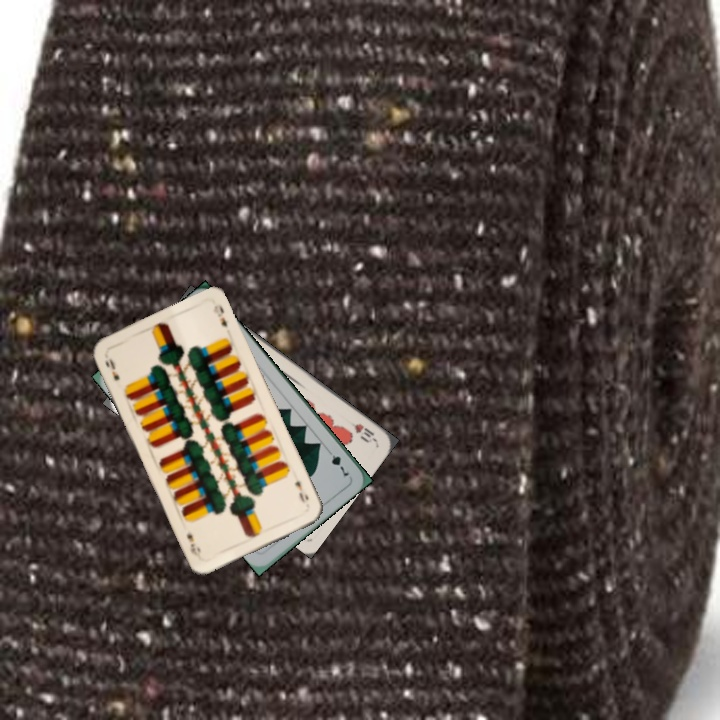E9: (101, 354, 122, 383), (291, 477, 311, 505)
G7: (322, 445, 352, 479)
H10: (344, 416, 379, 445)
